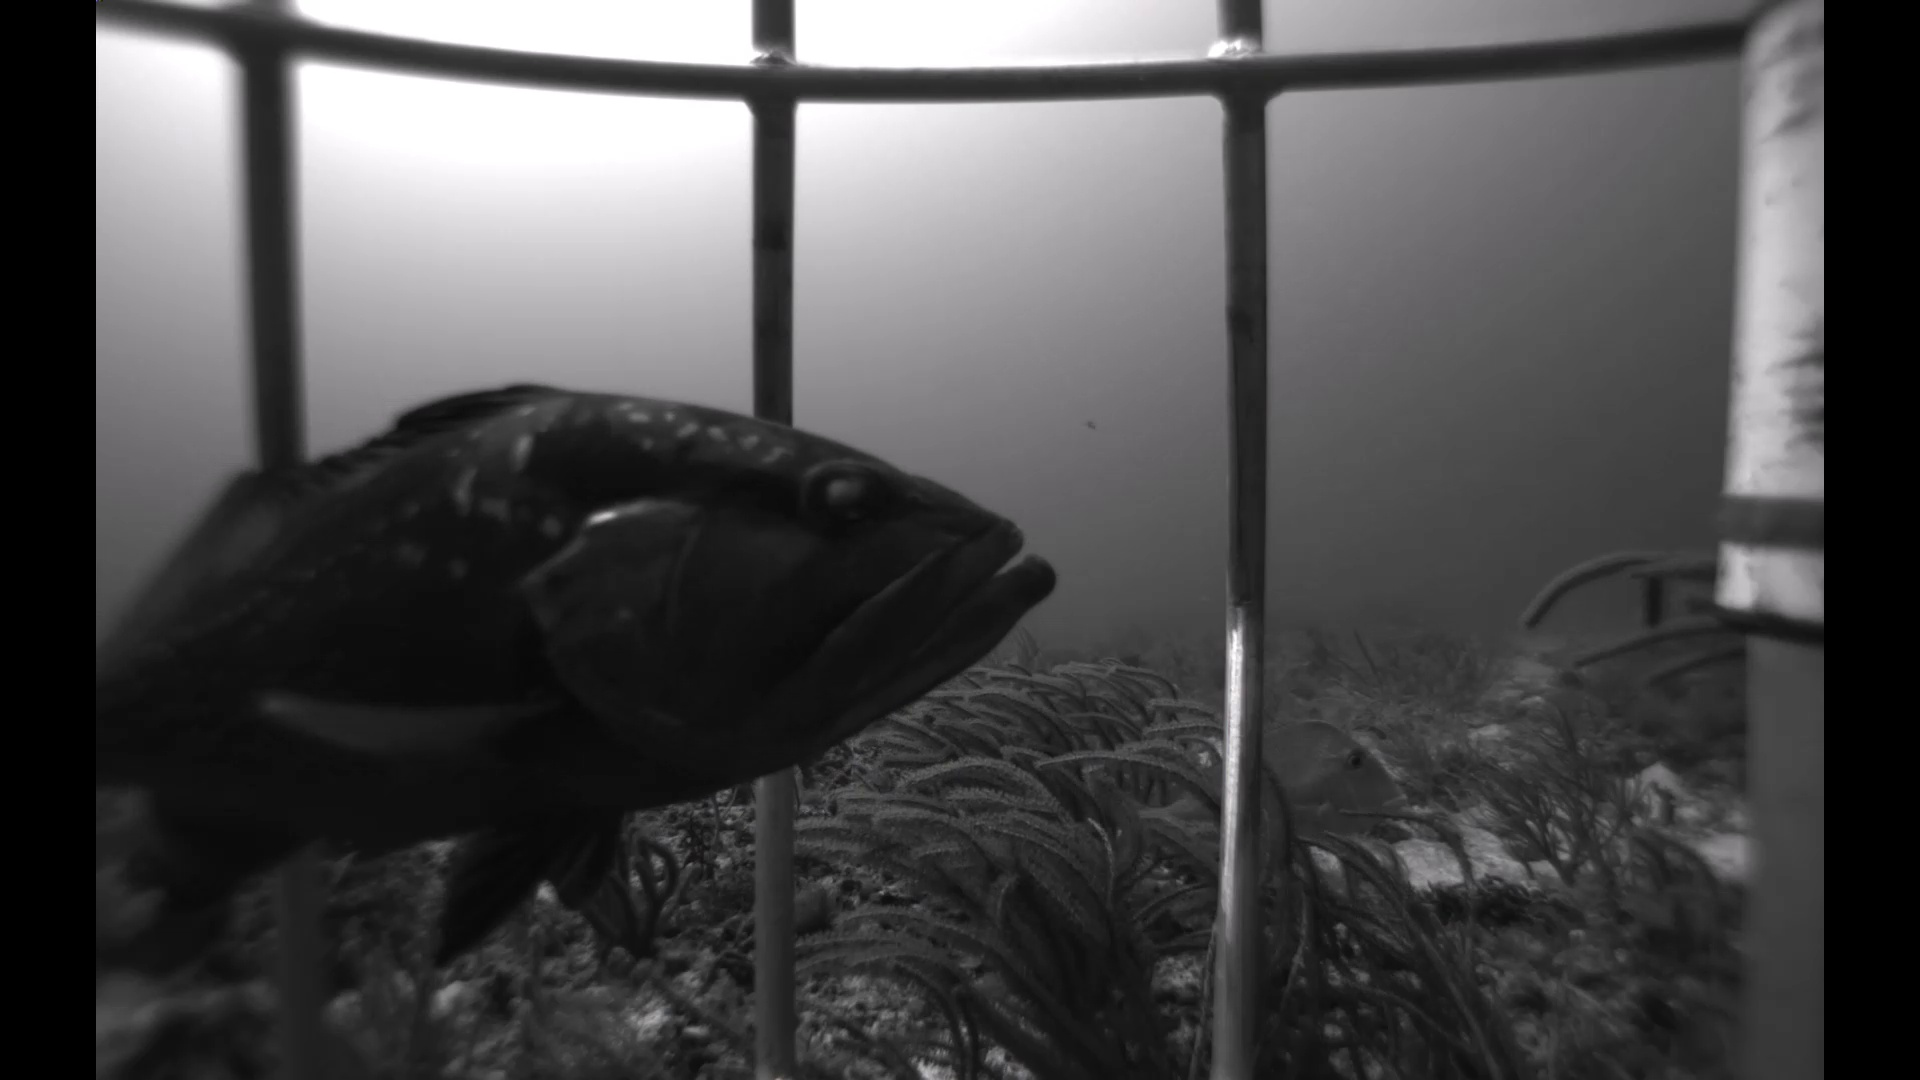CALAMUSNODOSUS-170210608: (1087, 700, 1429, 895)
EPINEPHELUSMORIO-170021211: (105, 360, 1083, 990)
